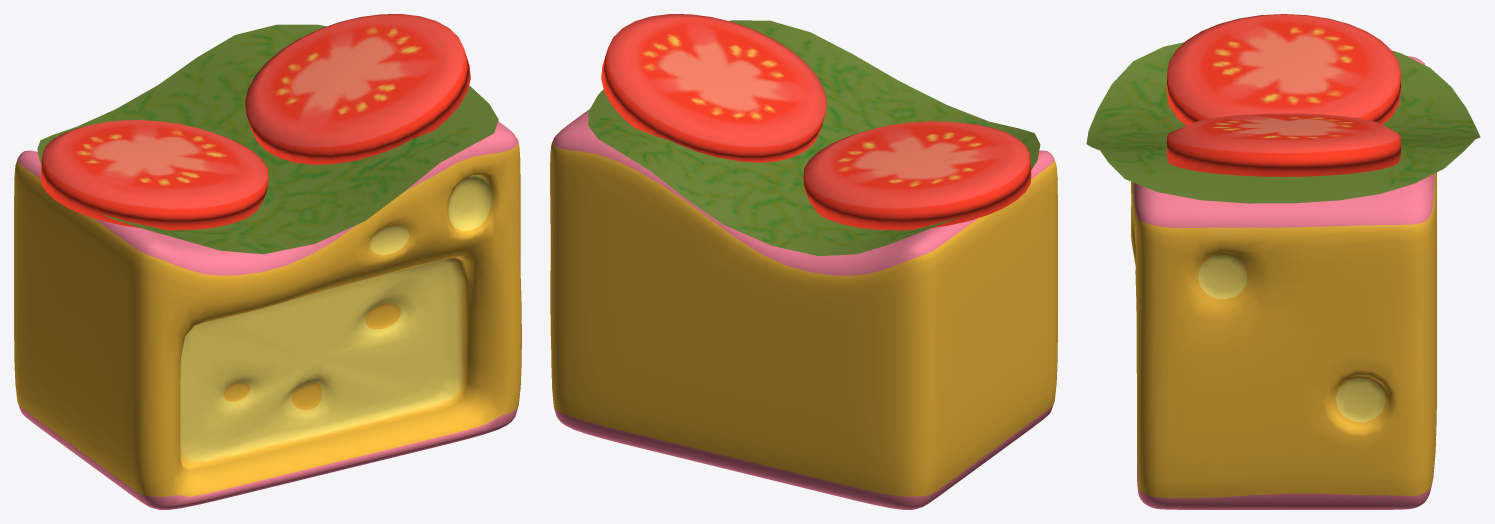
The model's file is cheese2.fbx.
3 renders of one model, left to right at view 1: azimuth 30°, elevation 25°; view 2: azimuth 150°, elevation 25°; view 3: azimuth 270°, elevation 25°, orthographic. The views are drawn at different scales.
Parts seen in each view (by area): view 1: Roundcube, Plane, Cylinder.002, Cylinder.001; view 2: Roundcube, Plane, Cylinder.002, Cylinder.001; view 3: Roundcube, Plane, Cylinder.001, Cylinder.002.
Boxes of the visible parts, left/top/right/bottom form: Roundcube: left=14, top=121, right=521, bottom=509; Plane: left=37, top=24, right=498, bottom=254; Cylinder.002: left=245, top=14, right=470, bottom=164; Cylinder.001: left=40, top=120, right=268, bottom=230; Roundcube: left=550, top=109, right=1057, bottom=509; Plane: left=588, top=20, right=1040, bottom=256; Cylinder.002: left=601, top=14, right=826, bottom=162; Cylinder.001: left=803, top=121, right=1031, bottom=230; Roundcube: left=1131, top=56, right=1436, bottom=509; Plane: left=1086, top=42, right=1480, bottom=203; Cylinder.001: left=1167, top=14, right=1400, bottom=125; Cylinder.002: left=1167, top=113, right=1400, bottom=176.
Size of the model in its own units: 314 by 265 by 257.
Materials: 1 (1 with a texture image).
